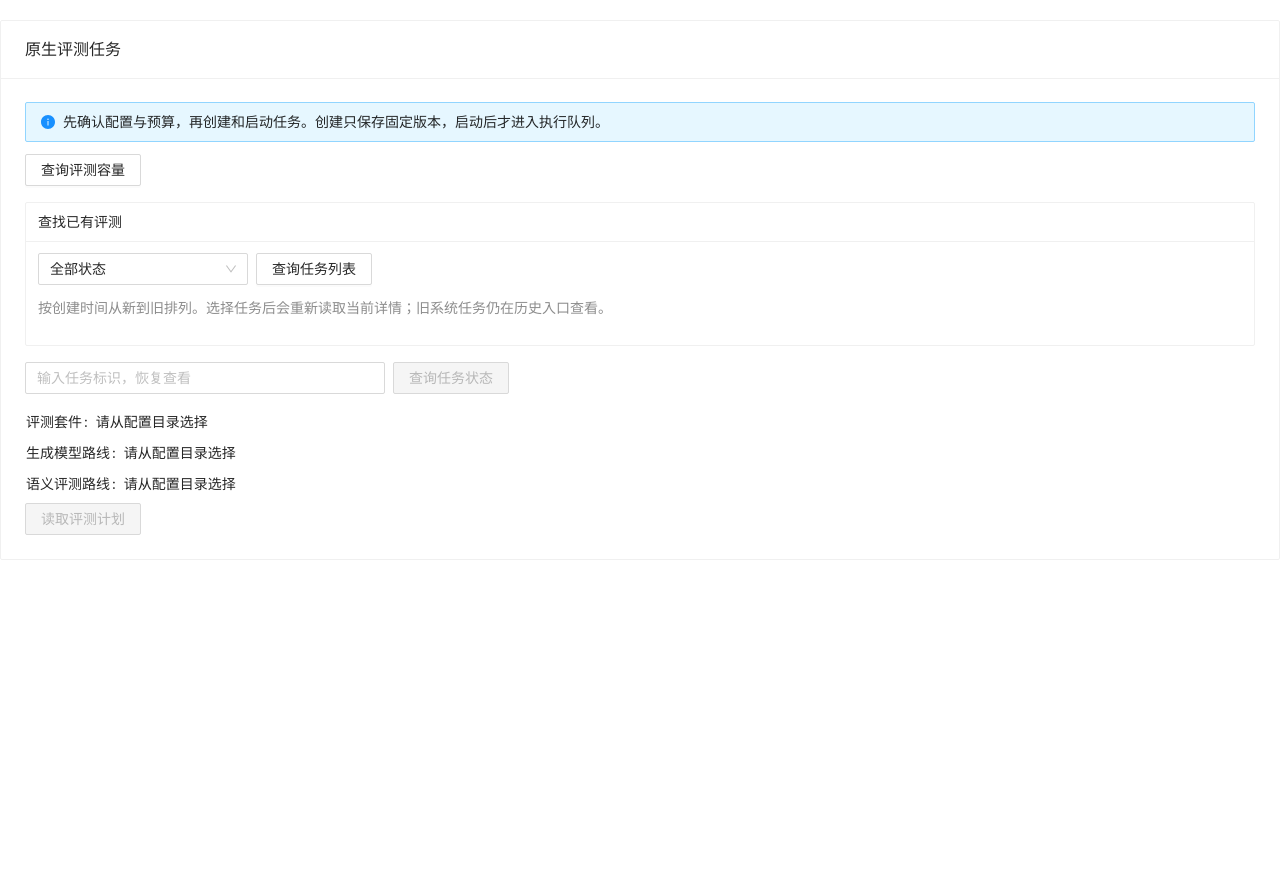
does not send when recovery storage fails
Step 1. Type "44444444-4444-4444-8444-444444444444" into the field named "评测任务标识" → (205, 378), box [25,362,385,394]
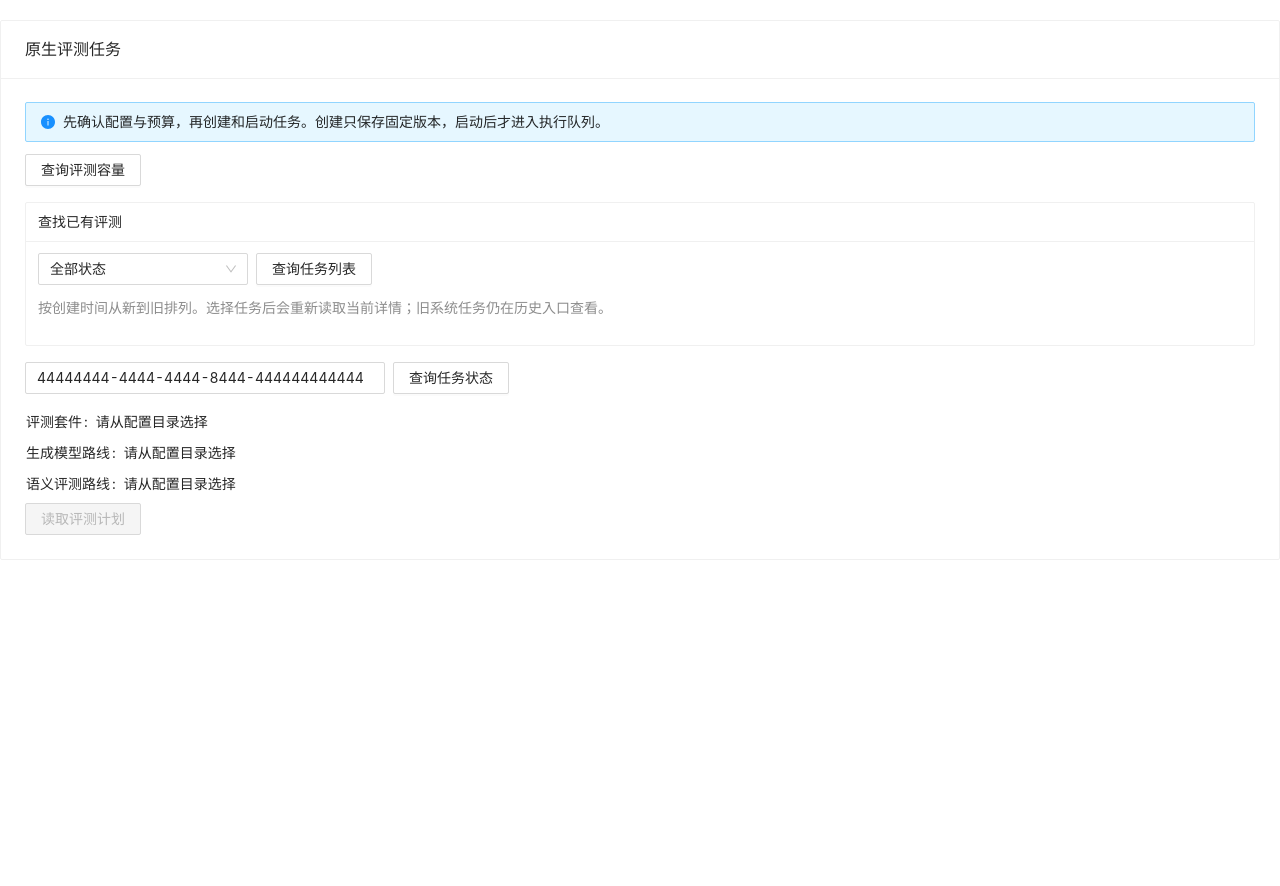
Step 2. Click the button "查询任务状态" → (451, 378), box [393,362,509,394]
(page scrolled)
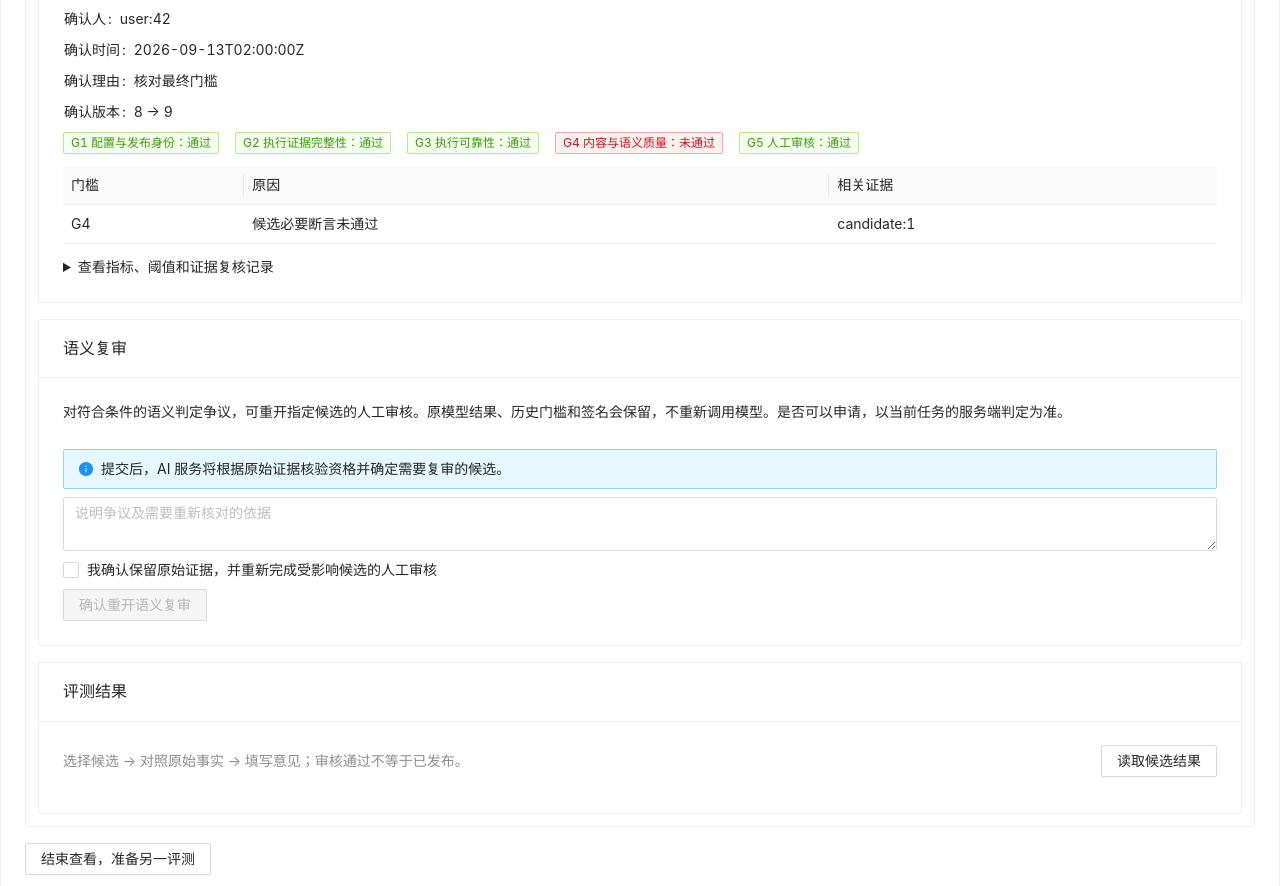
Expected: the text box named "重开复审理由" is shown
Step 3. Type "  复核语义判定  " into the text box named "重开复审理由" → (640, 524), box [63,497,1217,551]
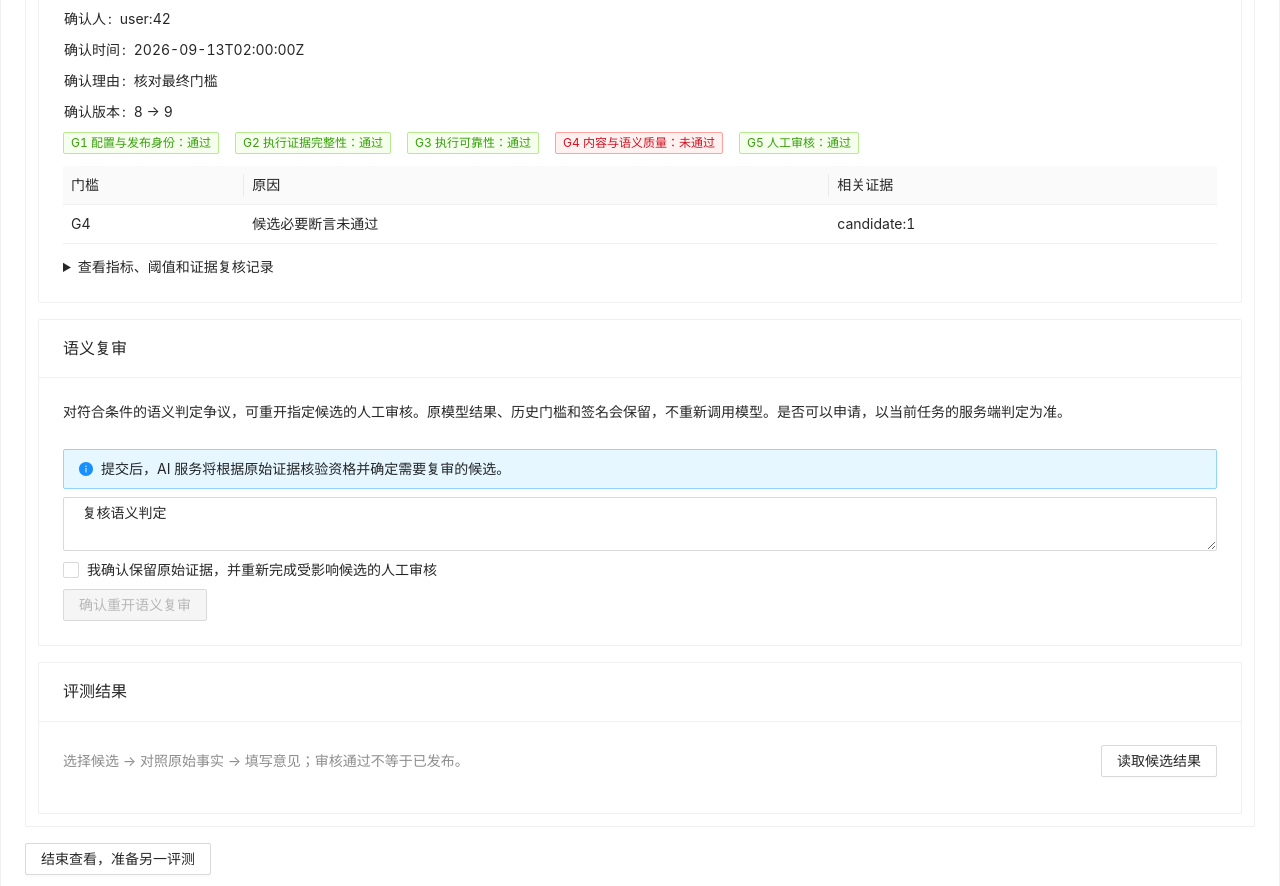
Step 4. Click the checkbox labelled "我确认保留原始证据，并重新完成受影响候选的人工审核" → (254, 570), box [63,559,445,581]
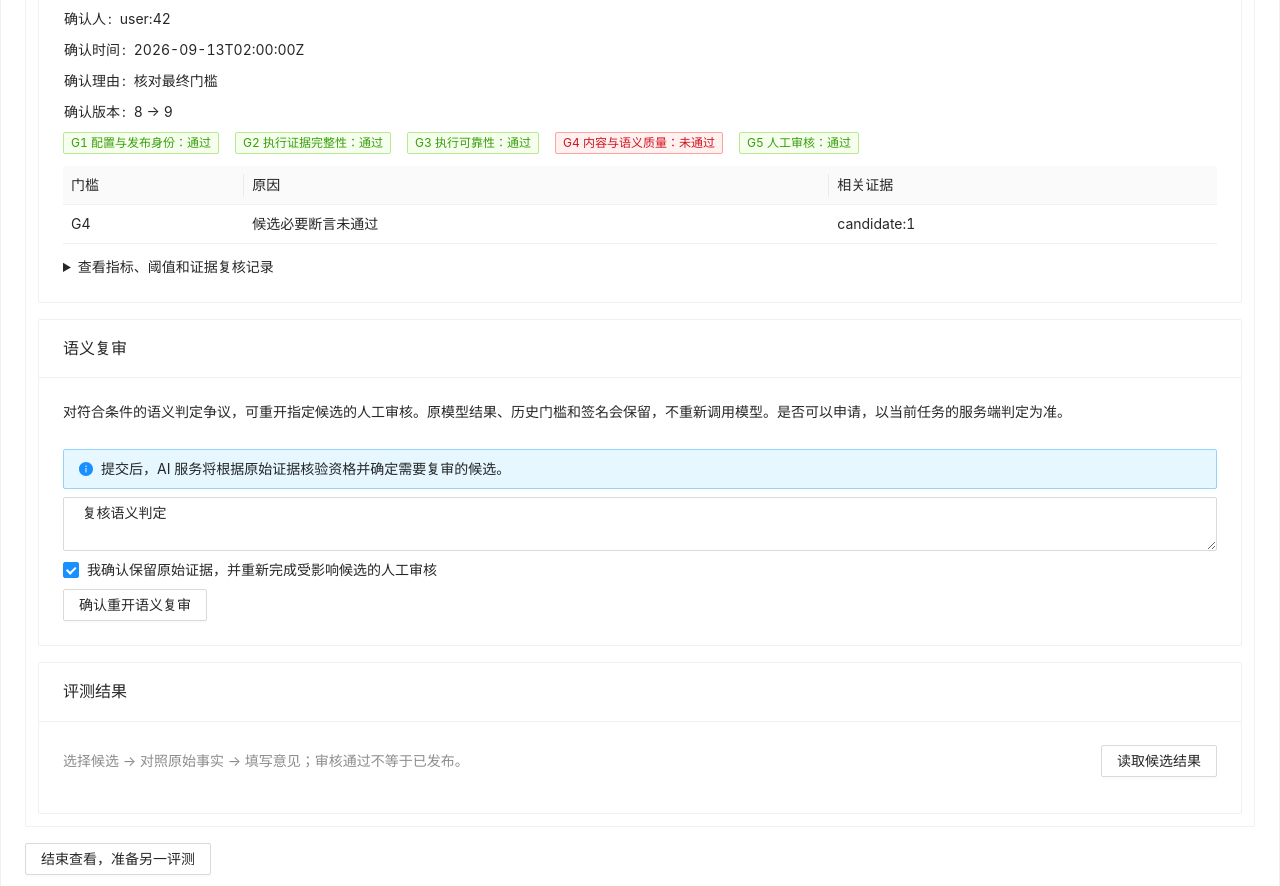
Step 5. Click the button "确认重开语义复审" → (135, 605), box [63,589,207,621]
(page scrolled)
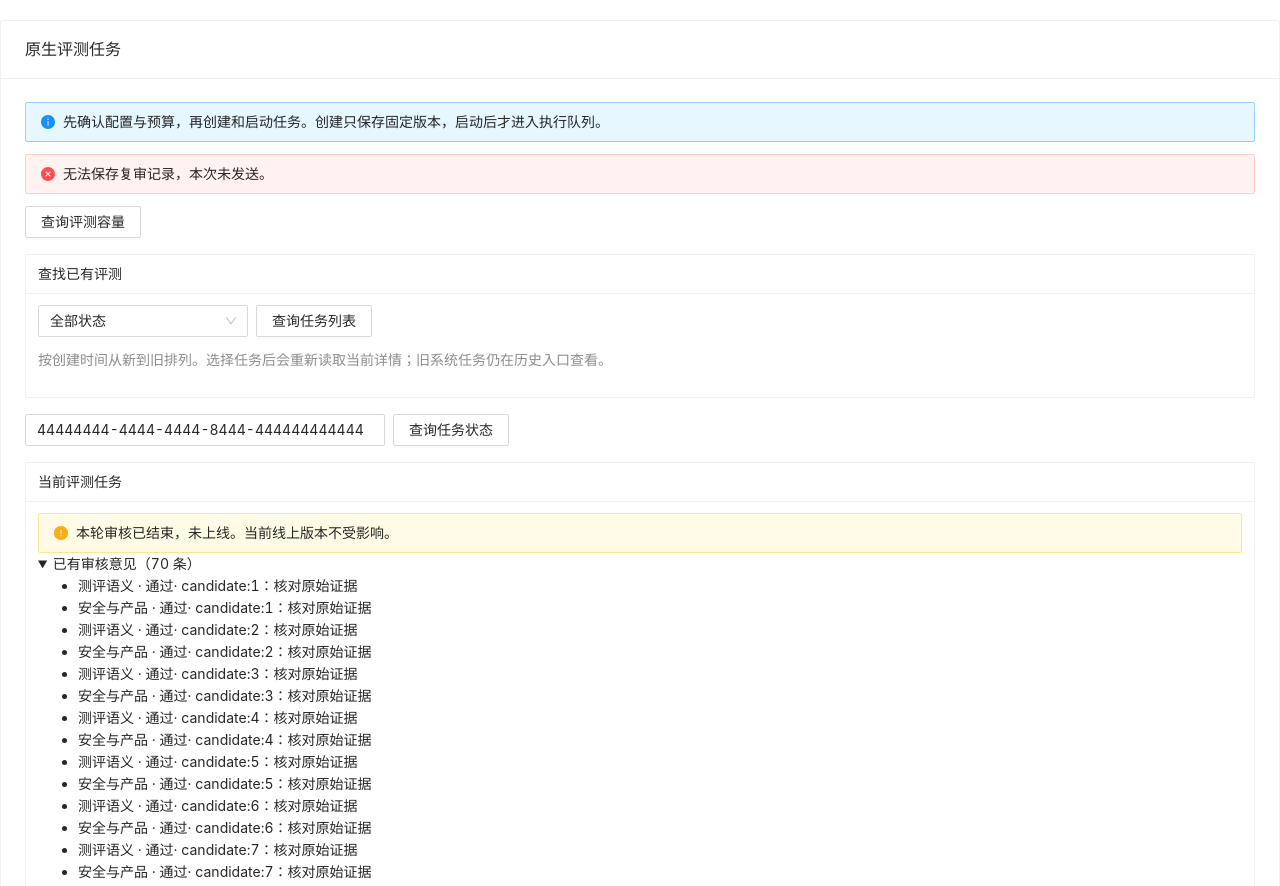
Expected: the text "无法保存复审记录，本次未发送。" is shown, [63,165,273,182]
